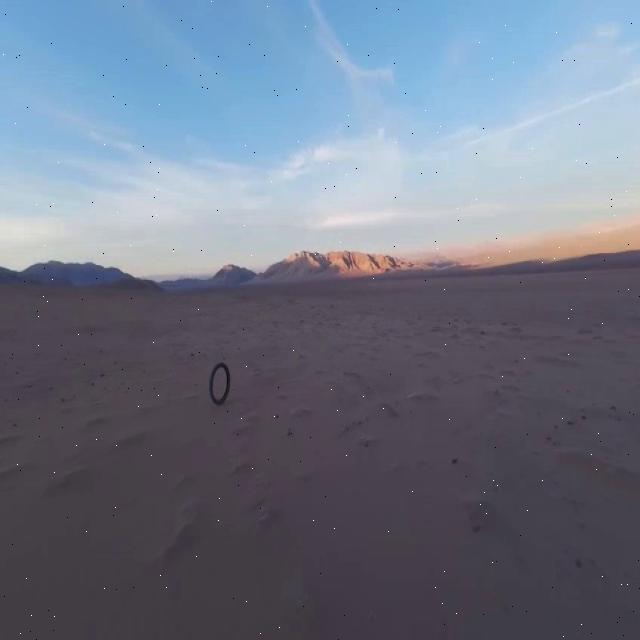Tire: (210, 362, 230, 403)
